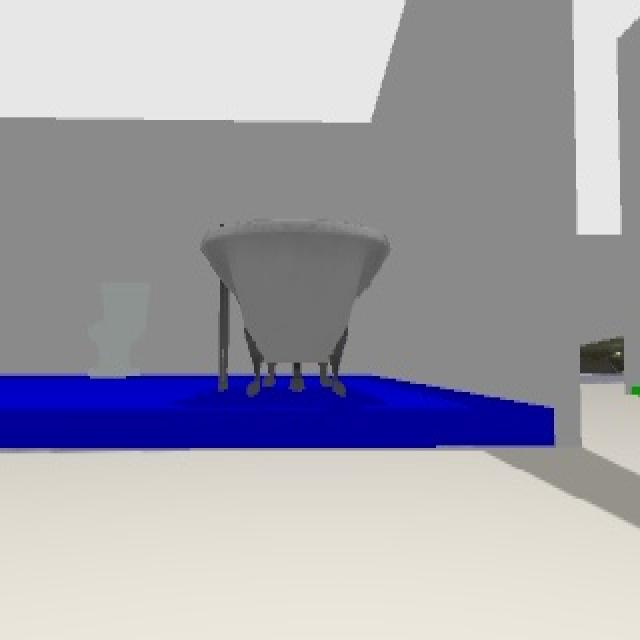bathtub: (198, 221, 392, 397)
